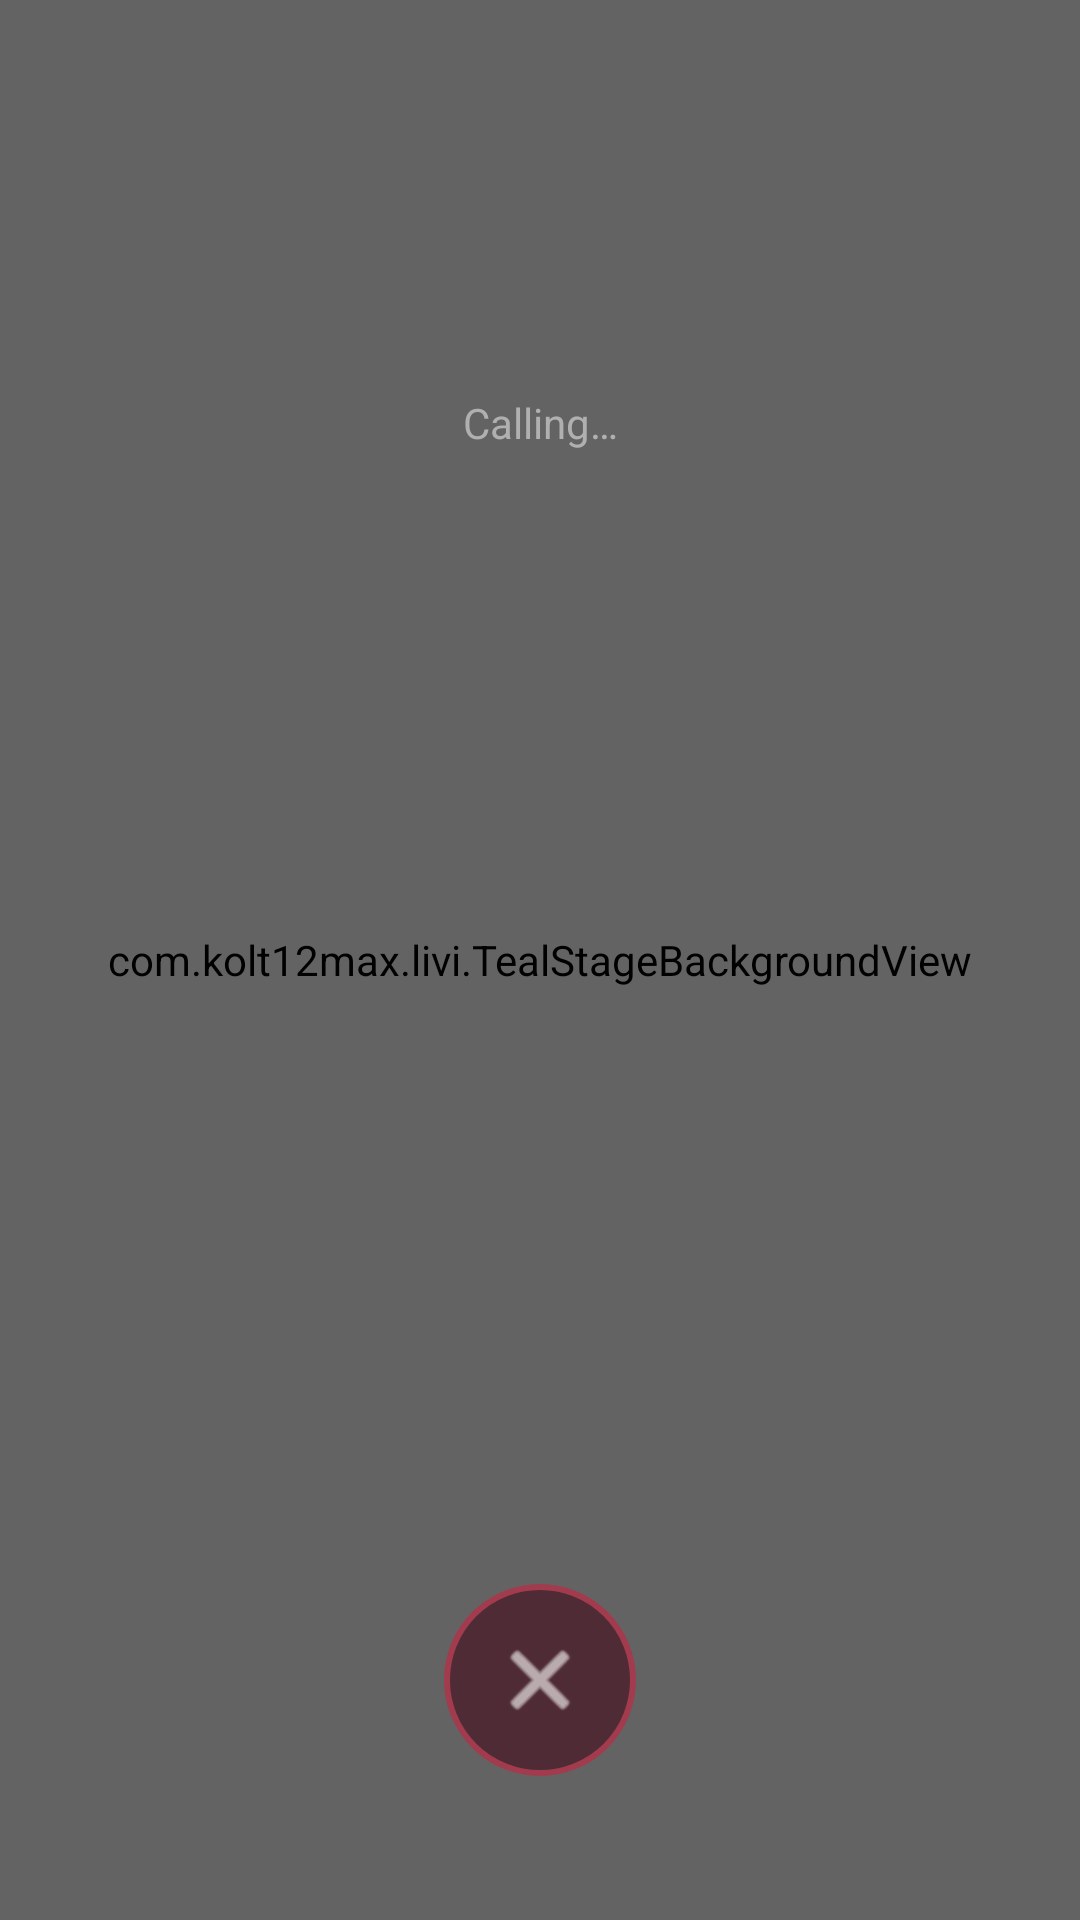

Icon click points for this 1080×1920 phone screenshot, format [x,y]:
Cancel: [540,1680]
